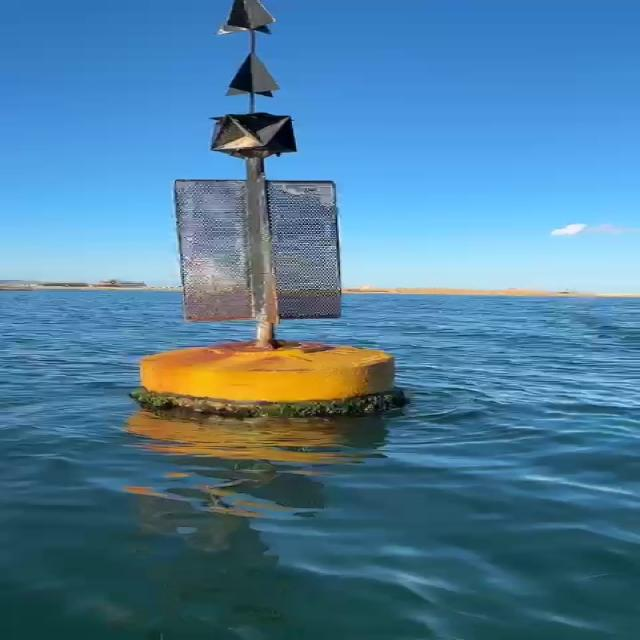marque: (109, 1, 412, 414)
